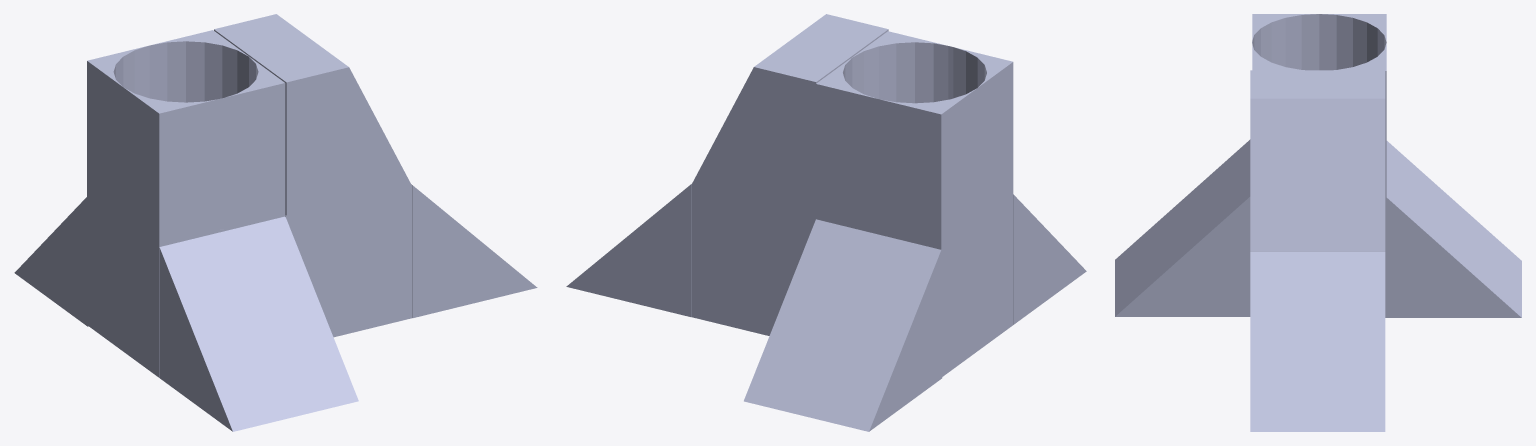
3 renders of one model, left to right at view 1: azimuth 30°, elevation 25°; view 2: azimuth 150°, elevation 25°; view 3: azimuth 270°, elevation 25°, orthographic. The views are drawn at different scales.
Visible parts, largest first — view 1: modelo001 (2); view 2: modelo001 (2); view 3: modelo001 (2).
Part boxes in pixels (x1=…): modelo001 (2): x1=14, y1=14, x2=537, y2=431; modelo001 (2): x1=566, y1=14, x2=1086, y2=431; modelo001 (2): x1=1115, y1=14, x2=1521, y2=431.
Bounding box in the file's own units: 0.1012 × 0.0683 × 0.1016.
